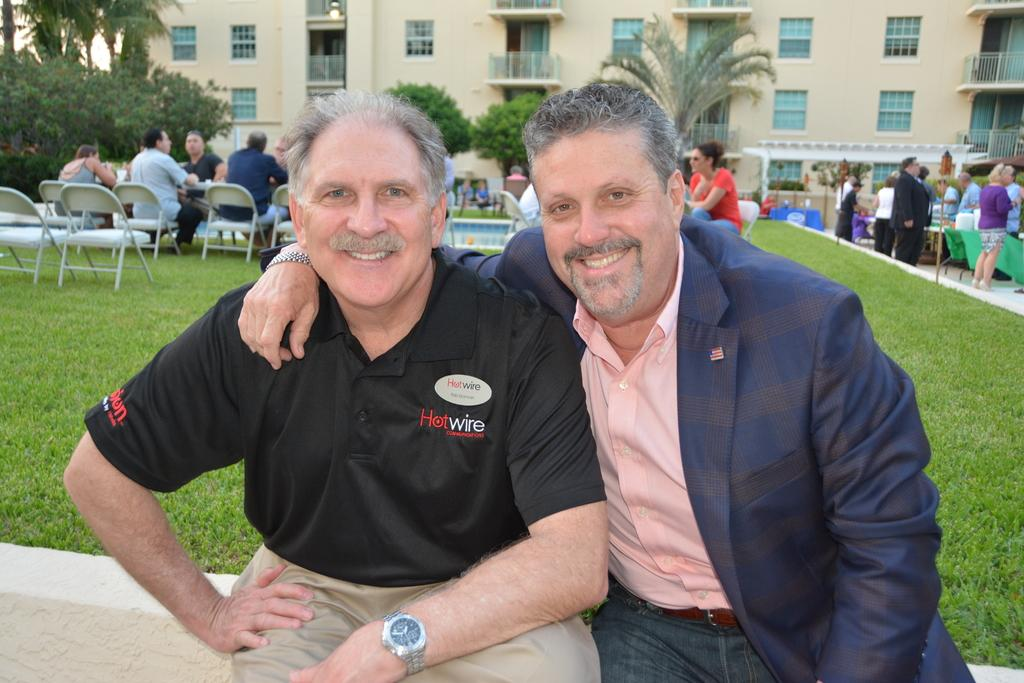Chair: (58, 182, 153, 290), (0, 186, 76, 285), (111, 182, 182, 259), (201, 183, 266, 262), (271, 184, 295, 246)
Luggage-and-bags: (766, 197, 825, 232)
